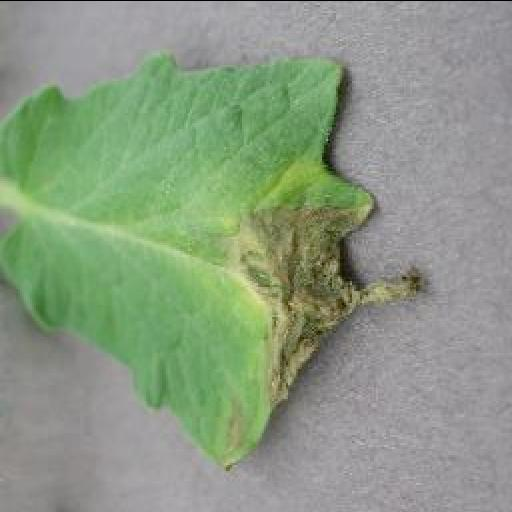disease_tomato: (0, 50, 428, 468)
